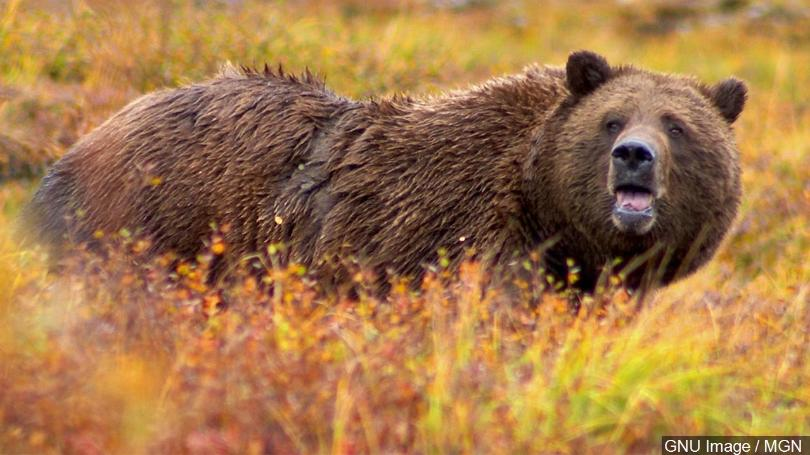bear: (550, 43, 755, 248)
